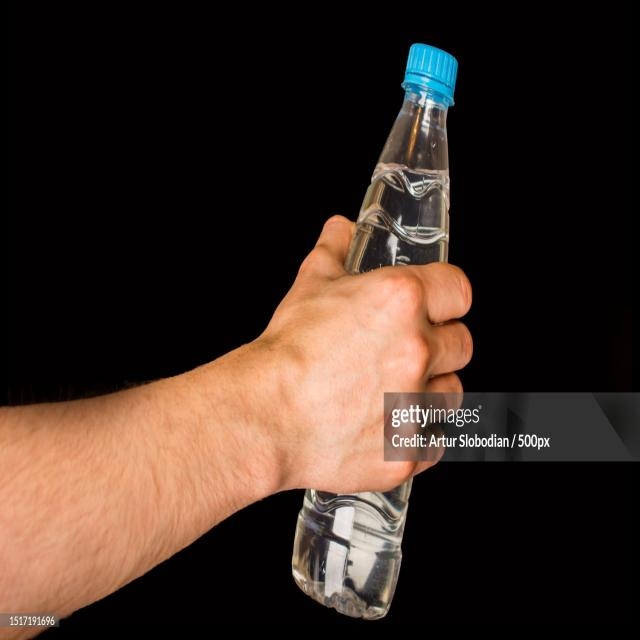bottle: (285, 33, 465, 622)
